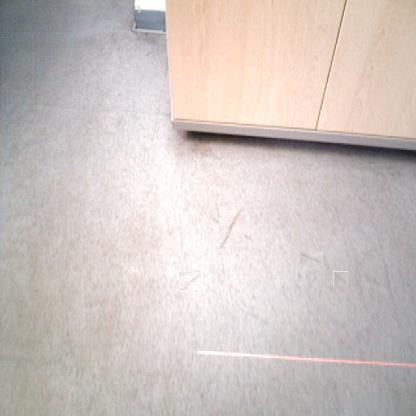mark: (214, 211, 248, 245), (180, 270, 200, 292), (299, 250, 323, 264), (333, 271, 348, 286)
